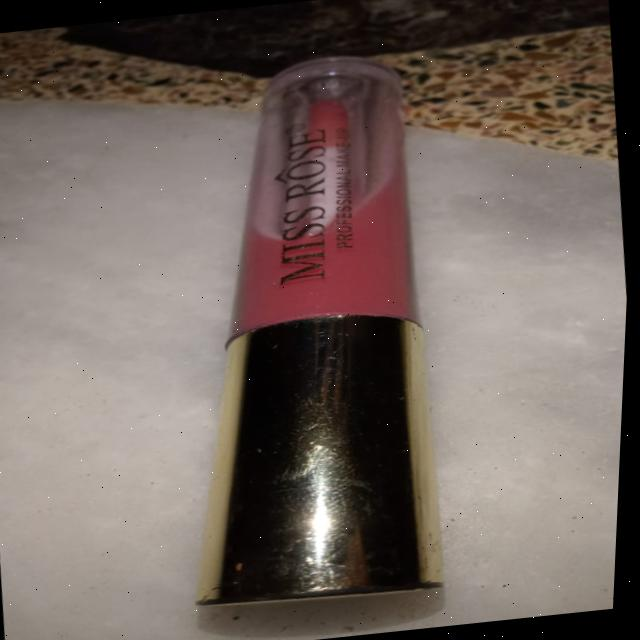lip gloss: (141, 29, 498, 621)
